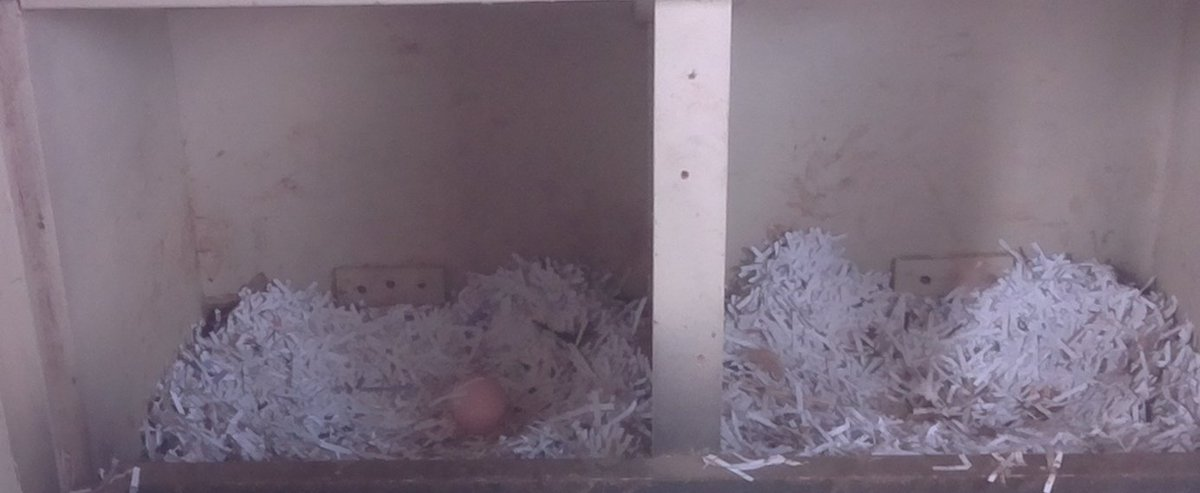egg: (433, 368, 518, 444)
